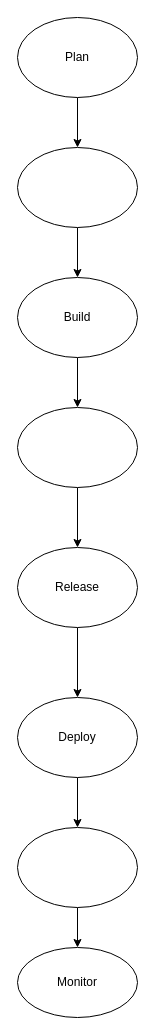
This 155x1035 diagram has some shape labels left out. Here are the shapes that lost their labels. From the top down, the centre of each, then its label:
At point (77, 187): "Develop".
At point (77, 447): "Test".
At point (77, 867): "Operator".
